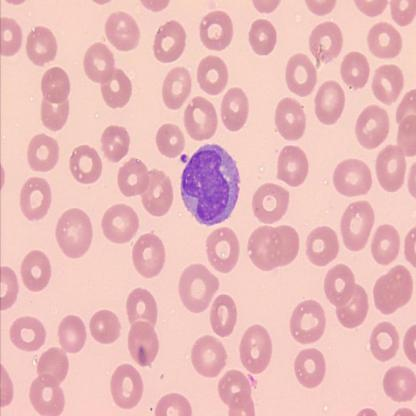Monocyte: (179, 141, 242, 228)
